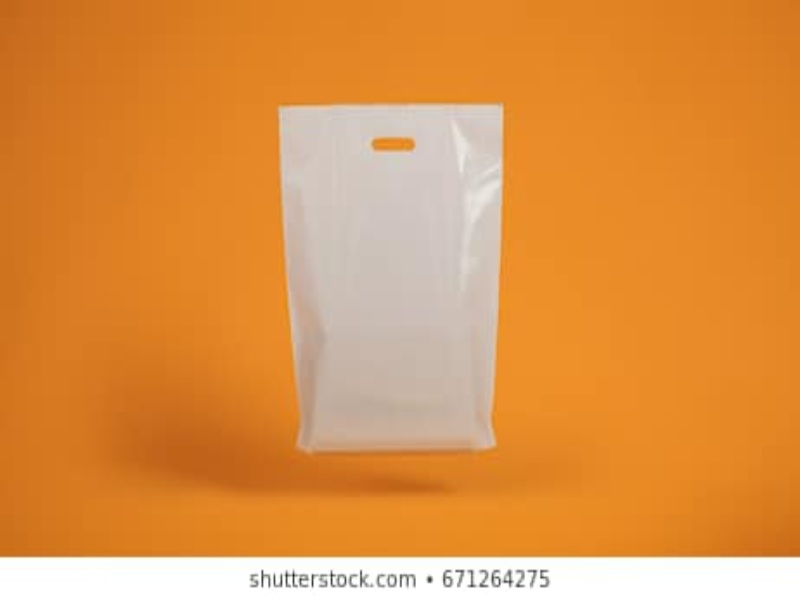plastic-bag: (273, 99, 514, 456)
